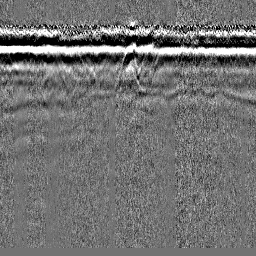cavity: (118, 45, 138, 83)
